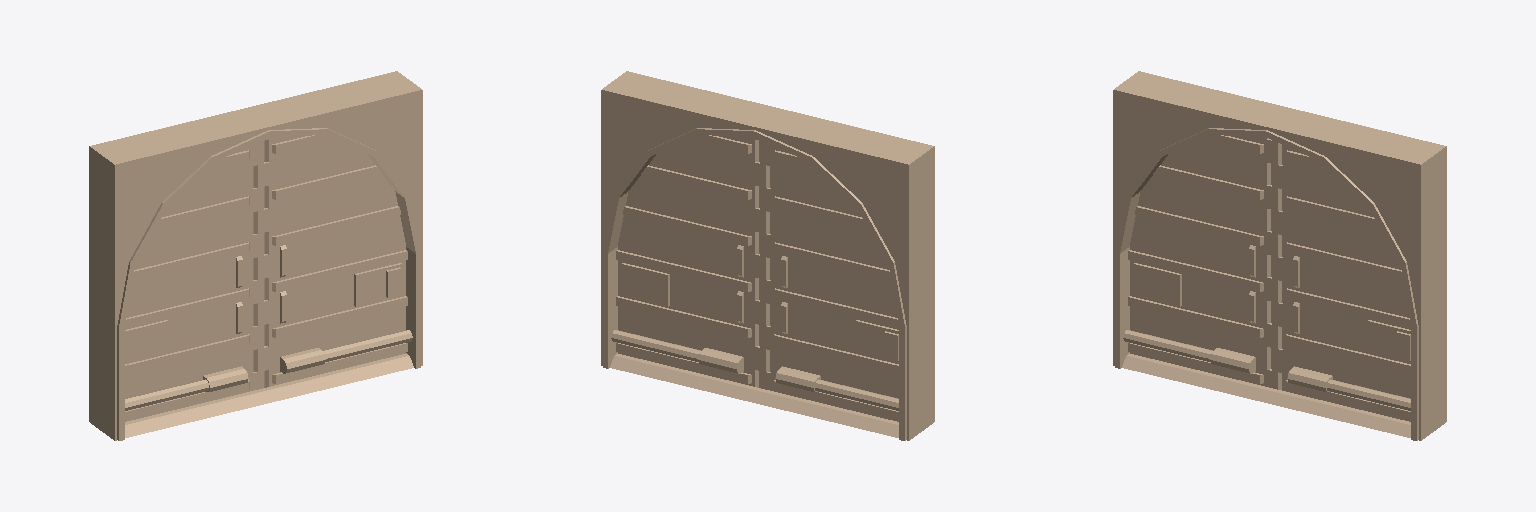
Rendered from large_vehicle_door.obj.
The picture shows the model from 3 angles: view 1: azimuth 30°, elevation 25°; view 2: azimuth 150°, elevation 25°; view 3: azimuth 330°, elevation 25°; orthographic projection.
Visible parts, largest first — view 1: frame, doorRight, doorLeft; view 2: frame, doorRight, doorLeft; view 3: frame, doorLeft, doorRight.
Boxes of the visible parts, box(x1,y1,x2,y2) form: frame: box(89, 71, 422, 440); doorRight: box(254, 135, 412, 387); doorLeft: box(125, 141, 264, 421); frame: box(601, 71, 934, 440); doorRight: box(611, 135, 769, 387); doorLeft: box(759, 141, 898, 421); frame: box(1113, 71, 1446, 440); doorLeft: box(1123, 135, 1281, 389); doorRight: box(1271, 140, 1410, 421).
Size of the model in its own units: 7 by 6 by 1.12.